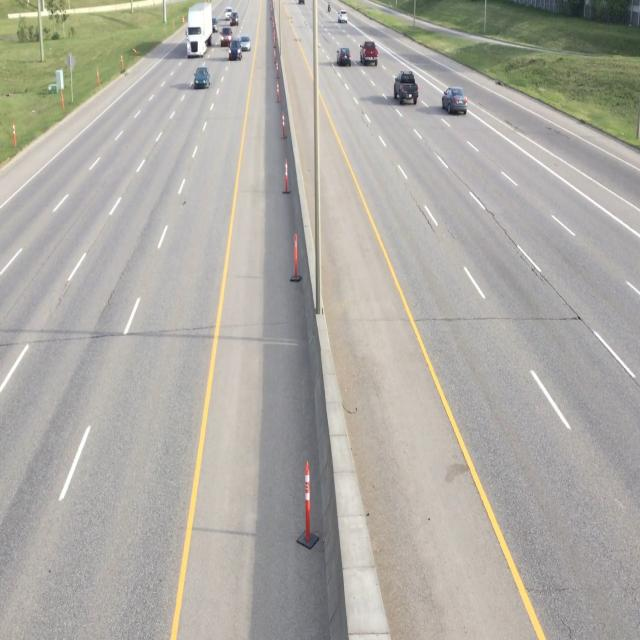Car: (184, 2, 214, 58), (392, 69, 420, 107), (441, 84, 468, 117), (360, 40, 380, 68), (192, 65, 210, 92), (336, 45, 353, 70), (228, 38, 244, 63)
